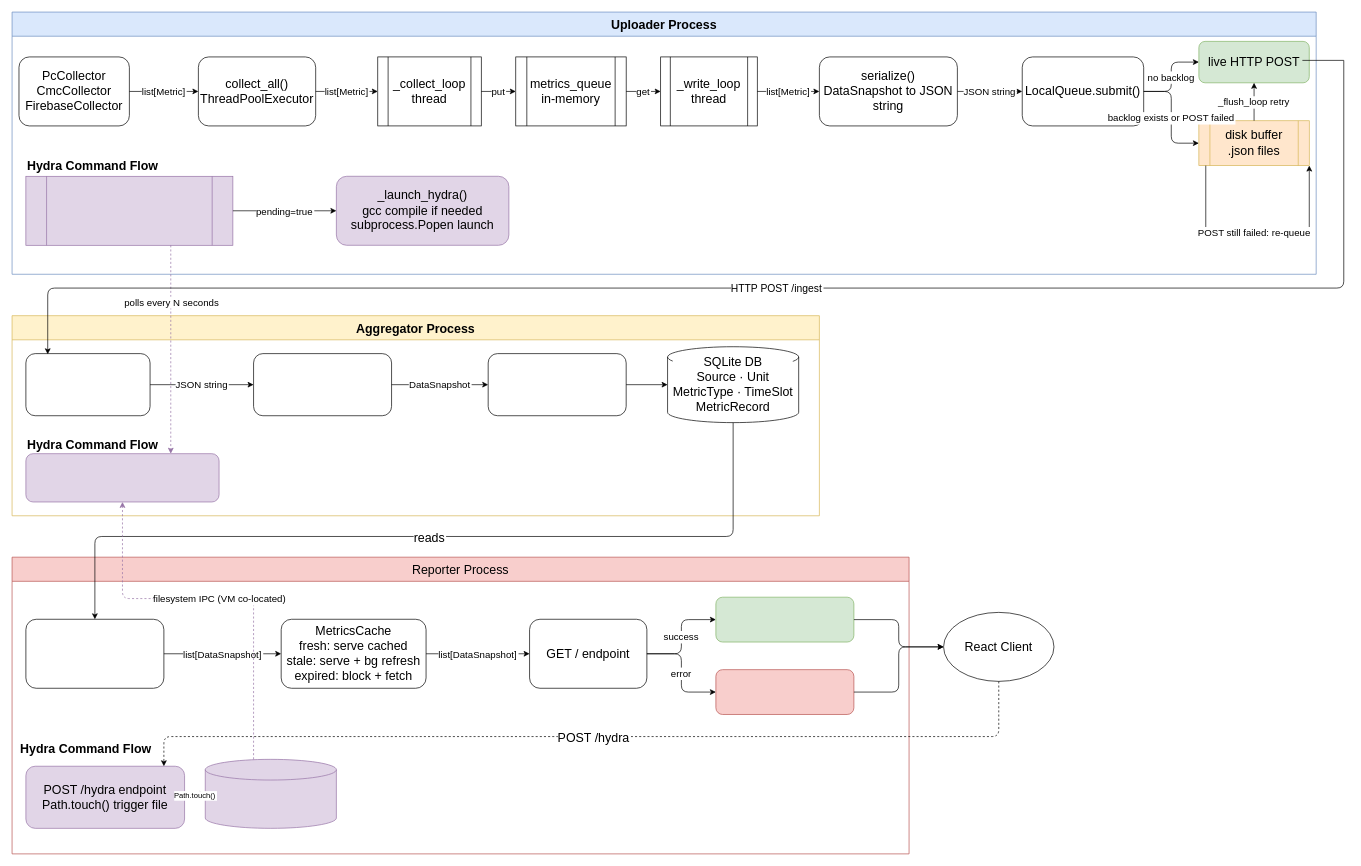
Image size: 1361x866. Some labels were removed from this diagram. The shapes that lost their labels are listed below. From the top down, each one's centre as x and y in pixels, then its label:
the point at 129,210: _hydra_loop thread polls GET /commands/hydra every poll_interval_seconds
the point at 87,384: POST /ingest
the point at 322,384: deserialize() JSON to DataSnapshot
the point at 556,384: save_snapshot() normalises to rows
the point at 122,477: GET /commands/hydra Path.unlink() trigger file returns {pending: true/false}
the point at 784,619: SuccessResponseDict JSON
the point at 94,653: list_recent() rows to list[DataSnapshot]
the point at 784,691: ErrorResponseDict JSON
the point at 270,793: trigger file VM filesystem
